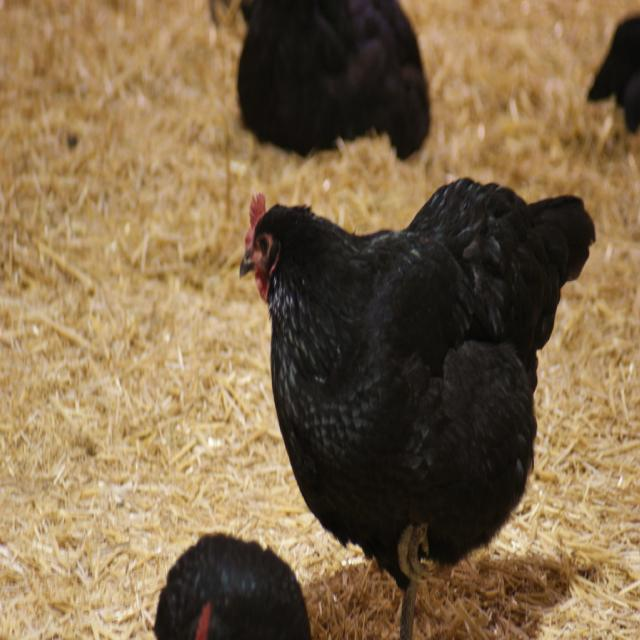Chicken: (240, 162, 586, 612), (235, 0, 431, 161)
